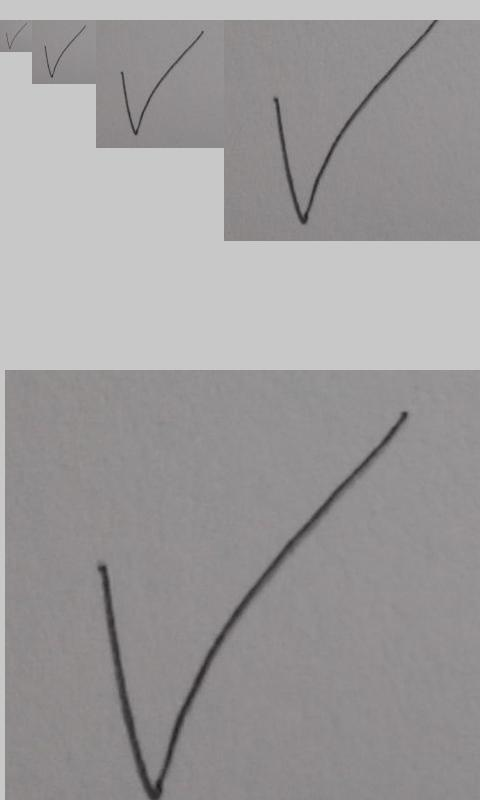check_box: (95, 411, 406, 800), (274, 21, 436, 224), (120, 31, 204, 135), (44, 25, 86, 78), (5, 23, 27, 49)
